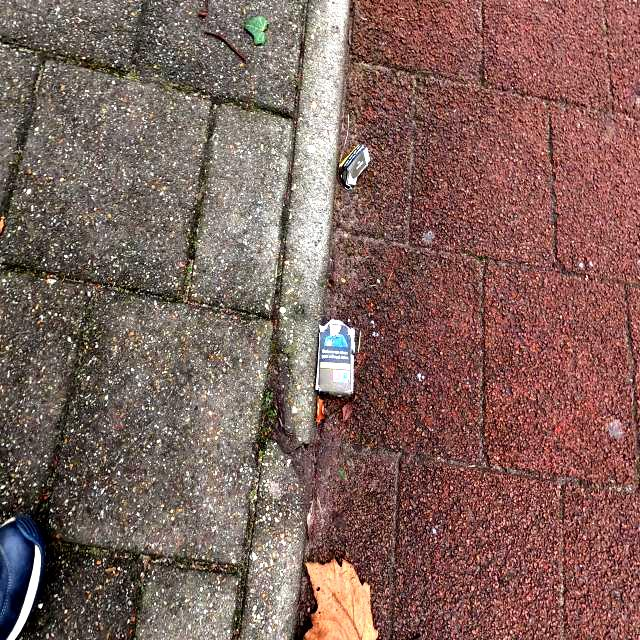Paper: (313, 316, 363, 398), (338, 142, 370, 192)
